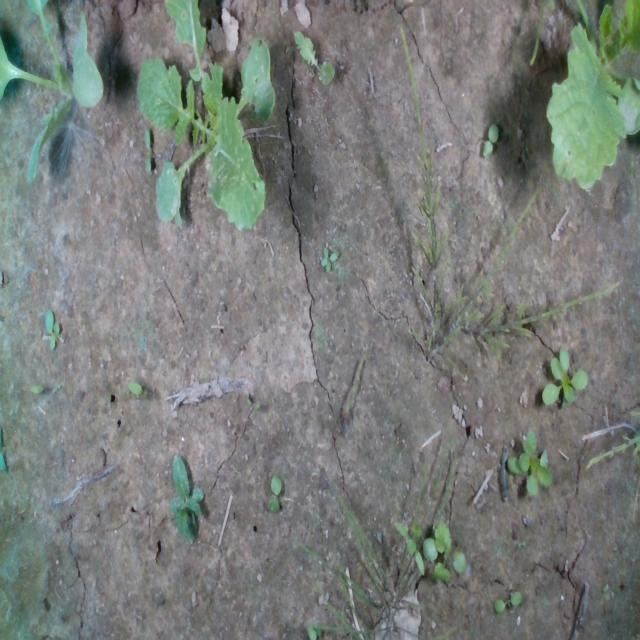weed: (43, 307, 61, 349), (266, 472, 282, 514), (492, 590, 522, 612), (482, 122, 499, 159), (320, 246, 339, 273)
